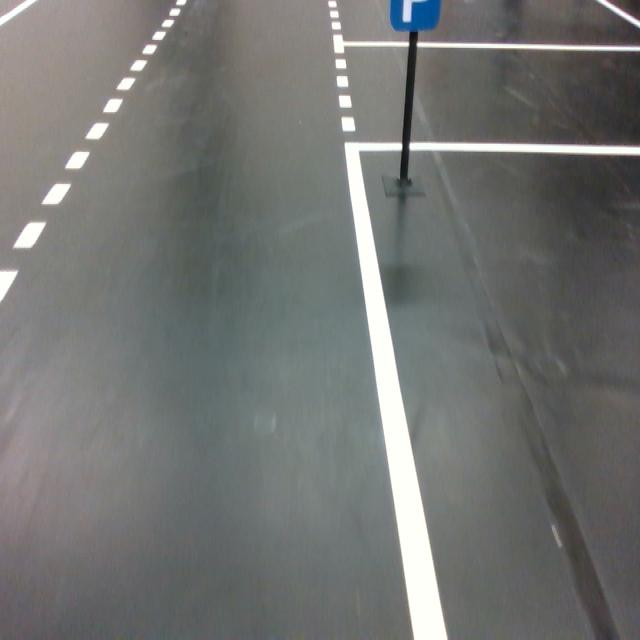parking-sign: (389, 0, 442, 32)
